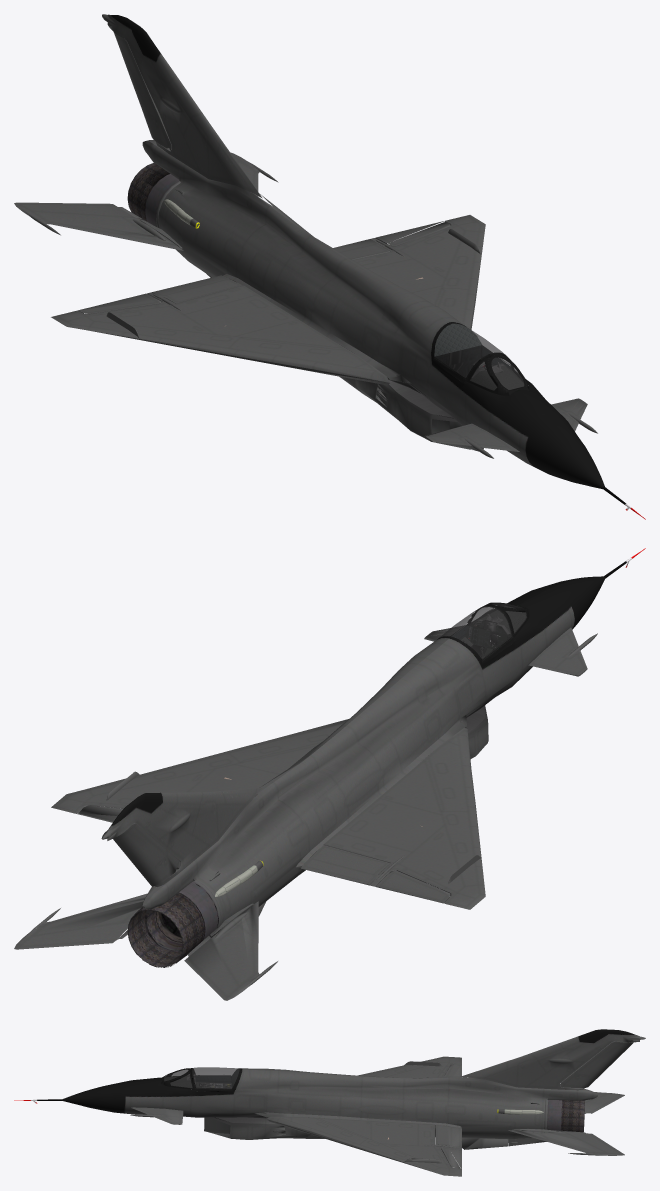
Rendered from mig-e8.glb.
The picture shows the model from 3 angles, top to bottom: view 1: azimuth 30°, elevation 25°; view 2: azimuth 150°, elevation 25°; view 3: azimuth 270°, elevation 25°; orthographic projection. The views are drawn at different scales.
Parts seen in each view (by area): view 1: fuse, ala_de, ala_iz, vertail, timon_de, cannard, glass01, tobera, CABINA, rudder, carlinga, flap_de (+3 smaller); view 2: fuse, ala_de, ala_iz, vertail, tobera, timon_de, timon_iz, rudder, glass01, flap_de, cannard, CABINA (+1 smaller); view 3: fuse, ala_iz, vertail, timon_iz, rudder, ala_de, tobera, glass01, CABINA, cannard, flap_iz, timon_de (+4 smaller).
Boxes of the visible parts, box(x1,y1,x2,y2) form: fuse: box(139, 140, 645, 519); ala_de: box(51, 285, 389, 385); ala_iz: box(353, 215, 485, 329); vertail: box(102, 14, 262, 198); timon_de: box(14, 202, 183, 250); cannard: box(424, 398, 597, 458); glass01: box(434, 323, 509, 377); tobera: box(127, 163, 179, 226); CABINA: box(436, 345, 524, 390); rudder: box(113, 32, 171, 150); carlinga: box(432, 323, 512, 383); flap_de: box(152, 275, 242, 303); fuse: box(142, 548, 645, 937); ala_de: box(323, 727, 485, 909); ala_iz: box(51, 719, 348, 813); vertail: box(101, 788, 262, 887); tobera: box(127, 881, 218, 967); timon_de: box(184, 901, 277, 1000); timon_iz: box(14, 893, 147, 949); rudder: box(113, 823, 180, 886); glass01: box(439, 606, 511, 659); flap_de: box(301, 845, 390, 885); cannard: box(424, 608, 597, 676); CABINA: box(452, 606, 526, 658); fuse: box(14, 1068, 597, 1146); ala_iz: box(266, 1116, 461, 1176); vertail: box(460, 1029, 645, 1090); timon_iz: box(508, 1129, 624, 1155); rudder: box(560, 1041, 633, 1087); ala_de: box(358, 1056, 461, 1078); tobera: box(546, 1100, 584, 1132); glass01: box(192, 1067, 239, 1088); CABINA: box(164, 1074, 231, 1091); cannard: box(130, 1107, 183, 1124); flap_iz: box(435, 1124, 461, 1147); timon_de: box(584, 1092, 624, 1113).
Size of the model in its own units: 7.28 by 3.44 by 16.35.
4 materials, 4 textured.
